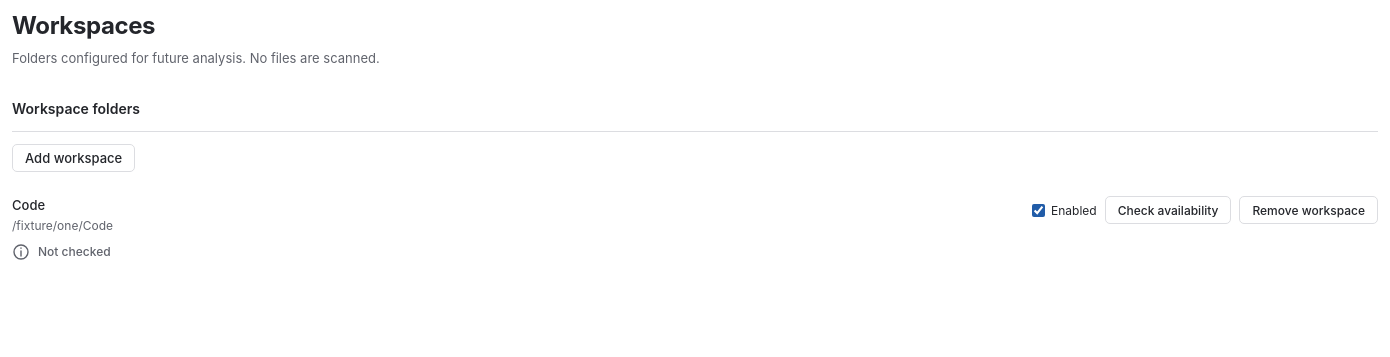
Test case: Workspaces view › keeps reload recovery inside the persistent error feedback
Click the checkbox labelled "Enabled" at x=1038, y=210, box [1032,204,1045,217]
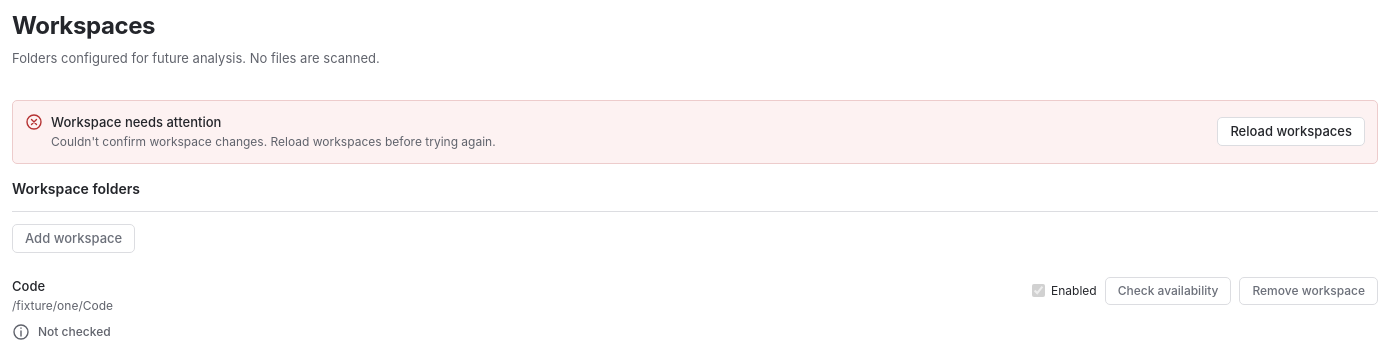
Expected: the text "Workspace needs attention" is shown, [51,114,221,130]
Expected: the message shows "Reload workspaces before trying again.", [51,134,496,150]
Expected: the button "Reload workspaces" is enabled, [1217,117,1365,146]
